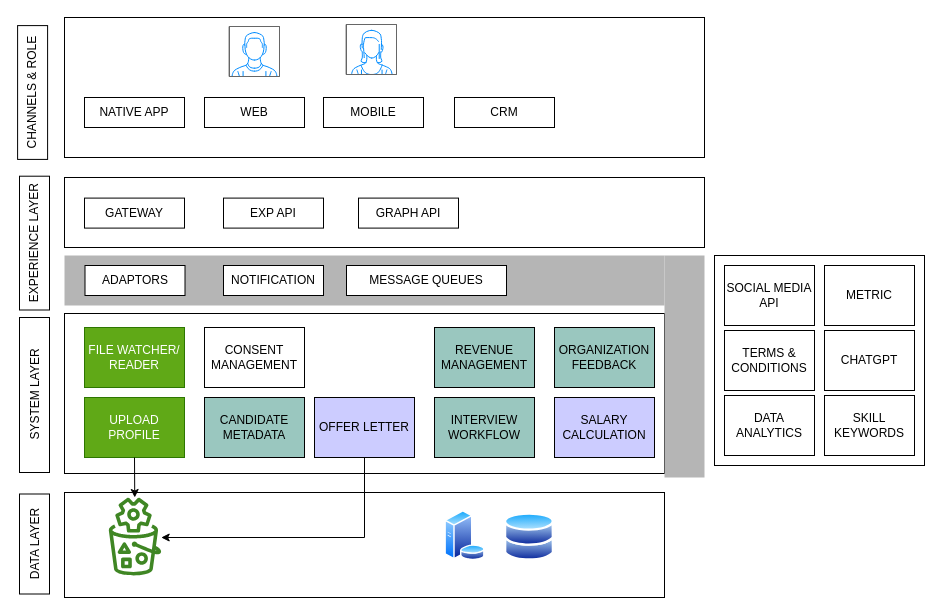
Image size: 942x615. Some labels were removed from this diagram. The centre of each missing label's shape, as x and y in pixels:
"HR" goes at (254,51).
"NoSQL" goes at (464,535).
"RDBMS" goes at (529,536).
"RECRUITER" goes at (371,49).
